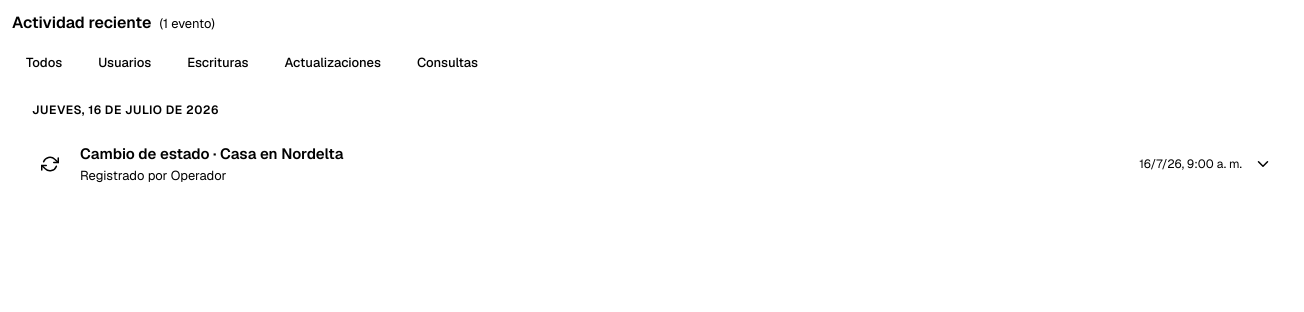
Test: TenantActivityFeed — property image thumbnail strip › omits the thumbnail strip when the expanded item has an empty property.images array
Click the button that starts with "Cambio de estado · Casa en Nordelta": (212, 153) [12,128,1292,200]
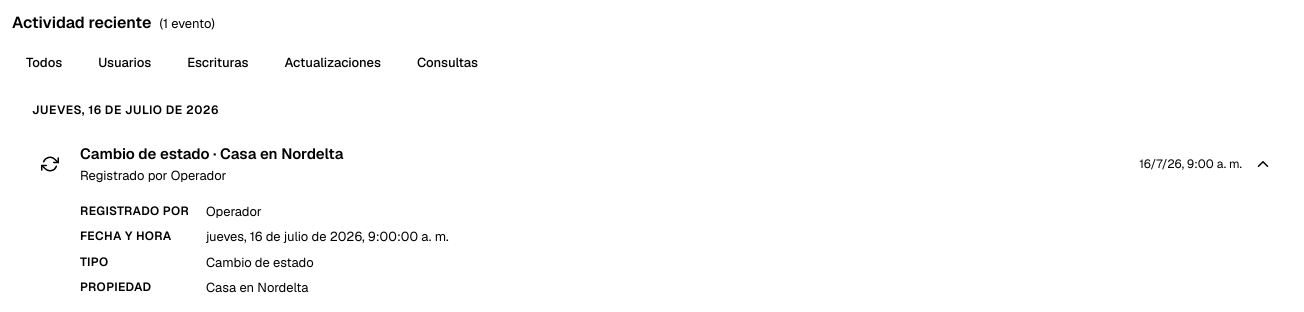
Expected: the text "Propiedad" is shown, [80,279,151,295]
